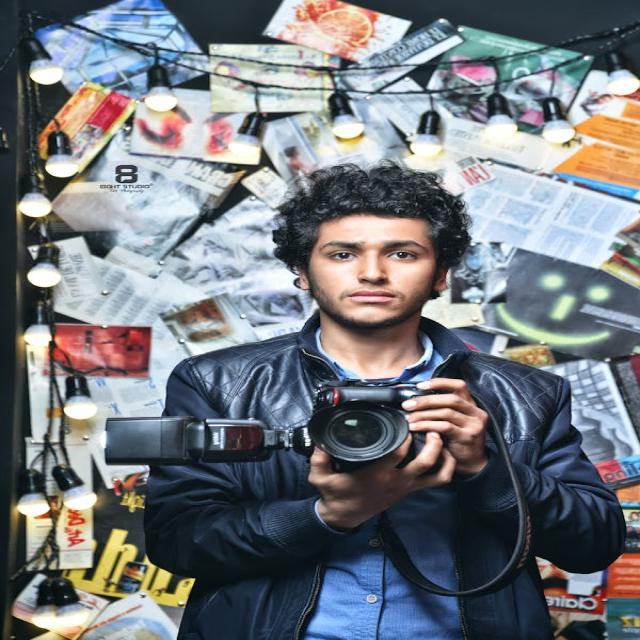Real human 2: (120, 151, 628, 640)
